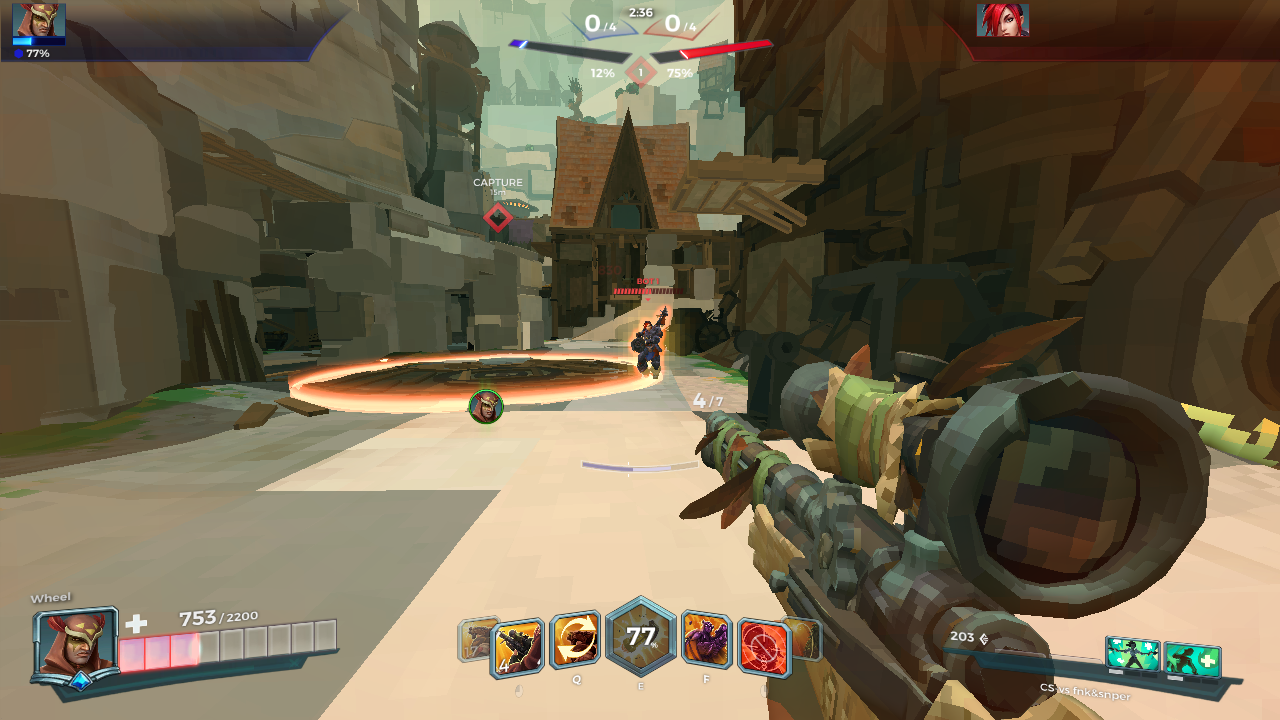model: (629, 300, 680, 384)
